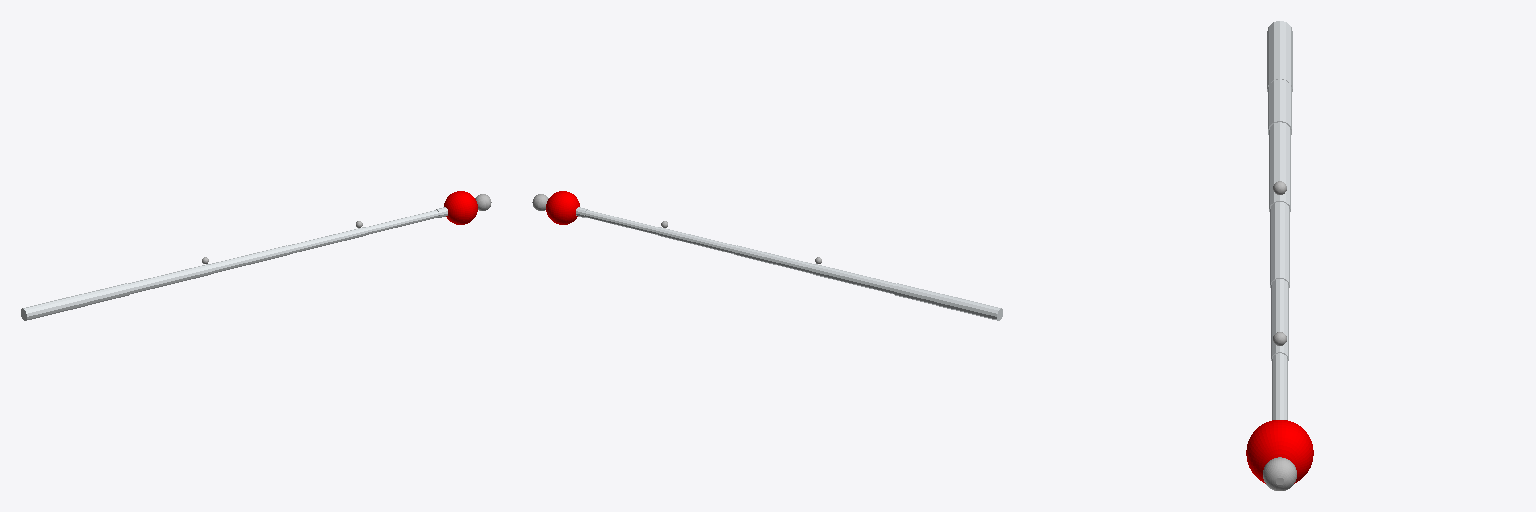
robot.urdf — stickball_xzh:
<?xml version="1.0" encoding="utf-8"?>
<!-- This URDF was automatically created by SolidWorks to URDF Exporter! Originally created by [author] ([email redacted]) 
     Commit Version: 1.6.0-4-g7f85cfe  Build Version: 1.6.7995.38578
     For more information, please see http://wiki.ros.org/sw_urdf_exporter -->
<robot
  name="stickball_xzh">
  <link
    name="stick_body">
    <inertial>
      <origin
        xyz="0.347065780830855 -2.70787872210112E-19 -3.9291250927203E-35"
        rpy="0 0 0" />
      <mass
        value="0.61762064039848" />
      <inertia
        ixx="2.92940081527368E-05"
        ixy="1.79708823088946E-21"
        ixz="-1.43917128414163E-35"
        iyy="0.0354614193651485"
        iyz="-1.36298139357343E-37"
        izz="0.0354614193651485" />
    </inertial>
    <visual>
      <origin
        xyz="0 0 0"
        rpy="0 0 0" />
      <geometry>
        <mesh
          filename="../dae/stick_body.STL" />
      </geometry>
      <material
        name="">
        <color
          rgba="0.898039215686275 0.917647058823529 0.929411764705882 1" />
      </material>
    </visual>
    <collision>
      <origin
        xyz="0 0 0"
        rpy="0 0 0" />
      <geometry>
        <mesh
          filename="../dae/stick_body.STL" />
      </geometry>
    </collision>
  </link>
  <link
    name="stick_head_ball">
    <inertial>
      <origin
        xyz="5.19643505166867E-05 3.03969491068531E-22 6.93583094531337E-19"
        rpy="0 0 0" />
      <mass
        value="0.114557495975606" />
      <inertia
        ixx="4.1527256053655E-05"
        ixy="2.82063956635855E-25"
        ixz="3.94007747179246E-24"
        iyy="4.12881487960702E-05"
        iyz="-5.45852425435264E-41"
        izz="4.12881487960702E-05" />
    </inertial>
    <visual>
      <origin
        xyz="0 0 0"
        rpy="0 0 0" />
      <geometry>
        <mesh
          filename="../dae/stick_head_ball.STL" />
      </geometry>
      <material
        name="">
        <color
          rgba="1 0 0 1" />
      </material>
    </visual>
    <collision>
      <origin
        xyz="0 0 0"
        rpy="0 0 0" />
      <geometry>
        <mesh
          filename="../dae/stick_head_ball.STL" />
      </geometry>
    </collision>
  </link>
  <joint
    name="stick_head_ball"
    type="fixed">
    <origin
      xyz="0.885895651857754 0 0"
      rpy="0 0 0" />
    <parent
      link="stick_body" />
    <child
      link="stick_head_ball" />
    <axis
      xyz="0 0 0" />
  </joint>
  <link
    name="stick_ball_1">
    <inertial>
      <origin
        xyz="0 0 0"
        rpy="0 0 0" />
      <mass
        value="0.00104310693576224" />
      <inertia
        ixx="1.62985458712849E-08"
        ixy="0"
        ixz="0"
        iyy="1.62985458712849E-08"
        iyz="0"
        izz="1.62985458712849E-08" />
    </inertial>
    <visual>
      <origin
        xyz="0 0 0"
        rpy="0 0 0" />
      <geometry>
        <mesh
          filename="../dae/stick_ball_1.STL" />
      </geometry>
      <material
        name="">
        <color
          rgba="0.752941176470588 0.752941176470588 0.752941176470588 1" />
      </material>
    </visual>
    <collision>
      <origin
        xyz="0 0 0"
        rpy="0 0 0" />
      <geometry>
        <mesh
          filename="../dae/stick_ball_1.STL" />
      </geometry>
    </collision>
  </link>
  <joint
    name="stick_ball_1"
    type="fixed">
    <origin
      xyz="0.68 0 0.016"
      rpy="0 0 0" />
    <parent
      link="stick_body" />
    <child
      link="stick_ball_1" />
    <axis
      xyz="0 0 0" />
  </joint>
  <link
    name="stick_ball_2">
    <inertial>
      <origin
        xyz="-1.11022302462516E-16 0 0"
        rpy="0 0 0" />
      <mass
        value="0.00104310693576224" />
      <inertia
        ixx="1.62985458712849E-08"
        ixy="0"
        ixz="0"
        iyy="1.62985458712849E-08"
        iyz="0"
        izz="1.62985458712849E-08" />
    </inertial>
    <visual>
      <origin
        xyz="0 0 0"
        rpy="0 0 0" />
      <geometry>
        <mesh
          filename="../dae/stick_ball_2.STL" />
      </geometry>
      <material
        name="">
        <color
          rgba="0.752941176470588 0.752941176470588 0.752941176470588 1" />
      </material>
    </visual>
    <collision>
      <origin
        xyz="0 0 0"
        rpy="0 0 0" />
      <geometry>
        <mesh
          filename="../dae/stick_ball_2.STL" />
      </geometry>
    </collision>
  </link>
  <joint
    name="stick_ball_2"
    type="fixed">
    <origin
      xyz="0.5266 0 0.0163"
      rpy="0 0 0" />
    <parent
      link="stick_body" />
    <child
      link="stick_ball_2" />
    <axis
      xyz="0 0 0" />
  </joint>
  <link
    name="stick_ball_3">
    <inertial>
      <origin
        xyz="0 0 0"
        rpy="0 0 0" />
      <mass
        value="0.00104310693576224" />
      <inertia
        ixx="1.62985458712849E-08"
        ixy="0"
        ixz="0"
        iyy="1.62985458712849E-08"
        iyz="0"
        izz="1.62985458712849E-08" />
    </inertial>
    <visual>
      <origin
        xyz="0 0 0"
        rpy="0 0 0" />
      <geometry>
        <mesh
          filename="../dae/stick_ball_3.STL" />
      </geometry>
      <material
        name="">
        <color
          rgba="0.752941176470588 0.752941176470588 0.752941176470588 1" />
      </material>
    </visual>
    <collision>
      <origin
        xyz="0 0 0"
        rpy="0 0 0" />
      <geometry>
        <mesh
          filename="../dae/stick_ball_3.STL" />
      </geometry>
    </collision>
  </link>
  <joint
    name="stick_ball_3"
    type="fixed">
    <origin
      xyz="0.368 0 0.0186"
      rpy="0 0 -1.5707963267949" />
    <parent
      link="stick_body" />
    <child
      link="stick_ball_3" />
    <axis
      xyz="0 0 0" />
  </joint>
  <link
    name="stick_ball_4">
    <inertial>
      <origin
        xyz="1.11022302462516E-16 -1.11072424304039E-19 -3.22643766658739E-19"
        rpy="0 0 0" />
      <mass
        value="0.0149803448996452" />
      <inertia
        ixx="1.38652917309722E-06"
        ixy="-3.01649547244518E-39"
        ixz="7.72539718477324E-24"
        iyy="1.38126512596821E-06"
        iyz="-2.12311408476253E-40"
        izz="1.38126512596821E-06" />
    </inertial>
    <visual>
      <origin
        xyz="0 0 0"
        rpy="0 0 0" />
      <geometry>
        <mesh
          filename="../dae/stick_ball_4.STL" />
      </geometry>
      <material
        name="">
        <color
          rgba="0.752941176470588 0.752941176470588 0.752941176470588 1" />
      </material>
    </visual>
    <collision>
      <origin
        xyz="0 0 0"
        rpy="0 0 0" />
      <geometry>
        <mesh
          filename="../dae/stick_ball_4.STL" />
      </geometry>
    </collision>
  </link>
  <joint
    name="stick_ball_4"
    type="fixed">
    <origin
      xyz="0.930560589701841 0 0"
      rpy="0 0 0" />
    <parent
      link="stick_body" />
    <child
      link="stick_ball_4" />
    <axis
      xyz="0 0 0" />
  </joint>
</robot>

--- Facts derived from the render (not from the file) ---
3 views of the same robot in one strip: view 1: azimuth 30°, elevation 25°; view 2: azimuth 150°, elevation 25°; view 3: azimuth 270°, elevation 25° (orthographic).
Robot: stickball_xzh — 6 links, 5 joints (5 fixed); root link stick_body; default pose: every joint at zero.
Links seen in each view (by area): view 1: stick_body, stick_head_ball; view 2: stick_body, stick_head_ball; view 3: stick_body, stick_head_ball, stick_ball_4.
Link boxes in pixels (bbox=[...]): stick_body: bbox=[21, 207, 447, 320]; stick_head_ball: bbox=[444, 191, 477, 224]; stick_body: bbox=[576, 207, 1002, 320]; stick_head_ball: bbox=[546, 191, 579, 224]; stick_body: bbox=[1267, 21, 1292, 419]; stick_head_ball: bbox=[1246, 420, 1313, 483]; stick_ball_4: bbox=[1263, 457, 1296, 490].
Bounding box of the posed robot: 0.9453 × 0.06 × 0.0599 m (x, y, z).
Meshes: 6 distinct files referenced, 5 mesh visuals loaded (5 binary STL); not drawn: 1 (reference not matched to a file when rendering).
